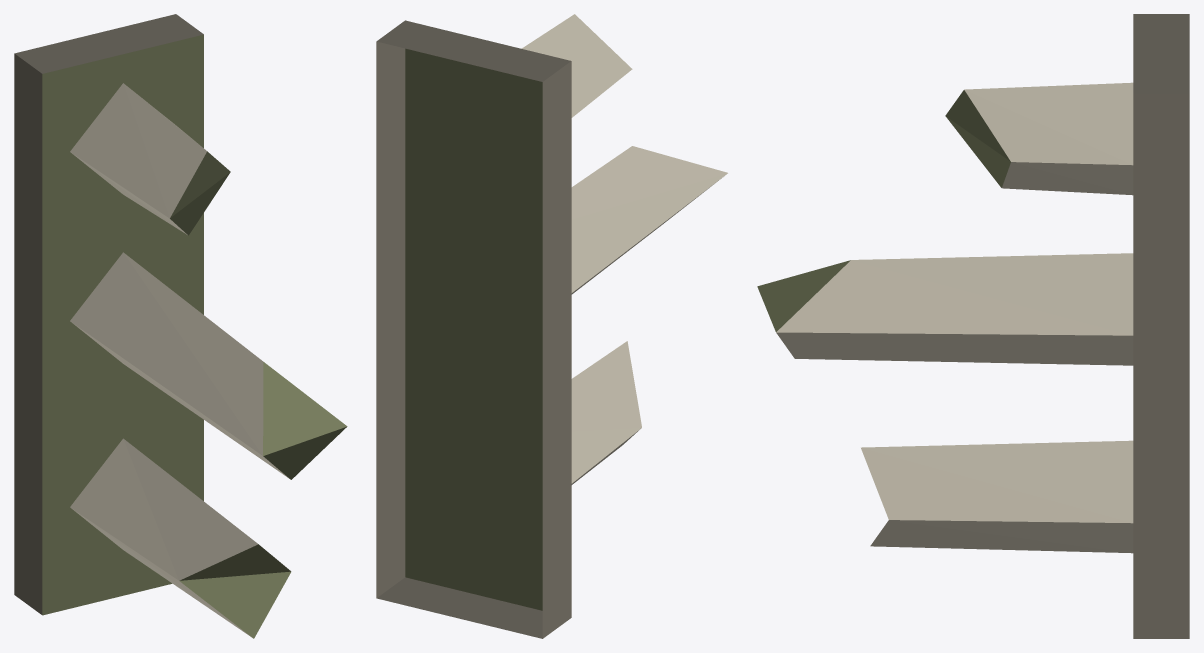
File: armor_back.obj
3 views of the same model, side by side, from view 1: azimuth 30°, elevation 25°; view 2: azimuth 150°, elevation 25°; view 3: azimuth 270°, elevation 25° (orthographic). The views are drawn at different scales.
Visible parts, largest first — view 1: armor_back; view 2: armor_back; view 3: armor_back.
Part boxes in pixels (x1=…): armor_back: x1=14, y1=14, x2=347, y2=638; armor_back: x1=376, y1=14, x2=727, y2=638; armor_back: x1=757, y1=14, x2=1189, y2=638.
Bounding box in the file's own units: 1 × 3.2 × 2.3.
